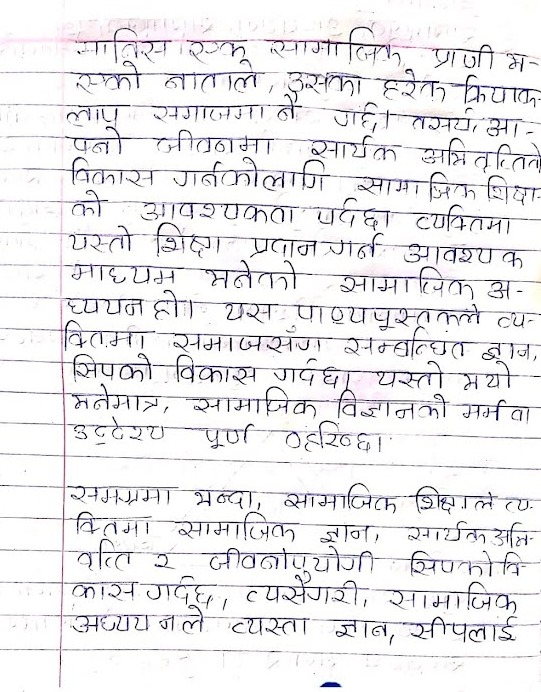text: (203, 545, 378, 582), (172, 155, 328, 192), (268, 25, 404, 67), (294, 302, 481, 331), (136, 196, 298, 227), (335, 266, 478, 301), (382, 579, 520, 614), (238, 572, 363, 609), (418, 136, 541, 173), (186, 387, 322, 419), (168, 329, 334, 355), (333, 388, 449, 424), (70, 605, 204, 636), (343, 327, 472, 359), (281, 481, 398, 516), (173, 511, 300, 543), (413, 204, 516, 238), (72, 26, 169, 62), (355, 173, 475, 202), (401, 242, 525, 270), (153, 129, 276, 157), (163, 59, 260, 93), (172, 352, 258, 389), (63, 481, 176, 509), (65, 262, 186, 288), (65, 155, 157, 189), (404, 616, 518, 643), (69, 414, 165, 446), (66, 382, 159, 415), (451, 75, 541, 109), (200, 260, 298, 291), (61, 320, 153, 353), (284, 421, 375, 454), (146, 101, 269, 125), (409, 482, 497, 514), (149, 222, 225, 259), (377, 66, 447, 105), (310, 197, 392, 230), (69, 352, 154, 383), (405, 548, 495, 577), (308, 134, 400, 162), (426, 40, 497, 75), (285, 66, 363, 97), (371, 359, 446, 391), (403, 520, 488, 548), (143, 575, 219, 606), (76, 59, 143, 93), (67, 223, 137, 255), (72, 510, 151, 538), (61, 295, 146, 320), (227, 614, 312, 639), (60, 127, 126, 158), (271, 357, 339, 387), (74, 539, 134, 573), (456, 399, 535, 424), (185, 34, 246, 65), (481, 173, 540, 205), (246, 236, 321, 261), (327, 229, 383, 262), (328, 102, 382, 135), (406, 108, 474, 134), (62, 100, 125, 128), (459, 361, 512, 392), (68, 578, 136, 602), (190, 486, 255, 511), (329, 617, 390, 643), (201, 422, 254, 451), (481, 338, 533, 363), (221, 301, 277, 324), (319, 521, 372, 545), (69, 188, 109, 218), (492, 522, 533, 550), (483, 112, 523, 139), (151, 289, 180, 323), (275, 92, 305, 122), (482, 276, 512, 303), (149, 549, 177, 575), (504, 48, 528, 75), (493, 313, 530, 330)
